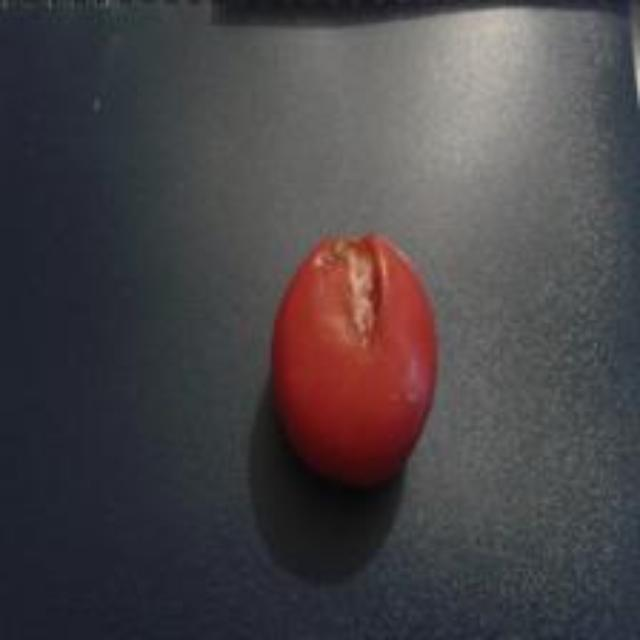defect: (261, 201, 454, 508)
